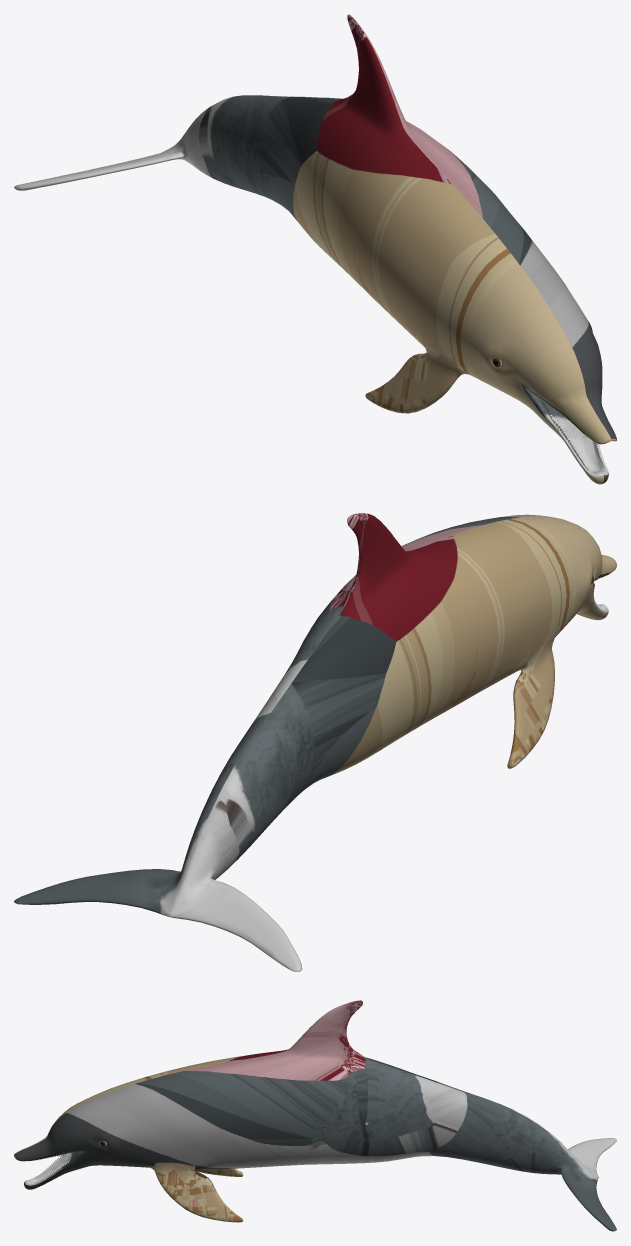
File: dolphin.fbx
3 views of the same model, one above another, from view 1: azimuth 30°, elevation 25°; view 2: azimuth 150°, elevation 25°; view 3: azimuth 270°, elevation 25° (orthographic). The views are drawn at different scales.
Visible parts, largest first — view 1: Circle; view 2: Circle; view 3: Circle.
Boxes of the visible parts, x1,y1,x2,y2 form: Circle: [14, 14, 616, 484]; Circle: [14, 513, 616, 971]; Circle: [14, 1000, 616, 1231].
Size of the model in its own units: 325 by 327 by 896.
